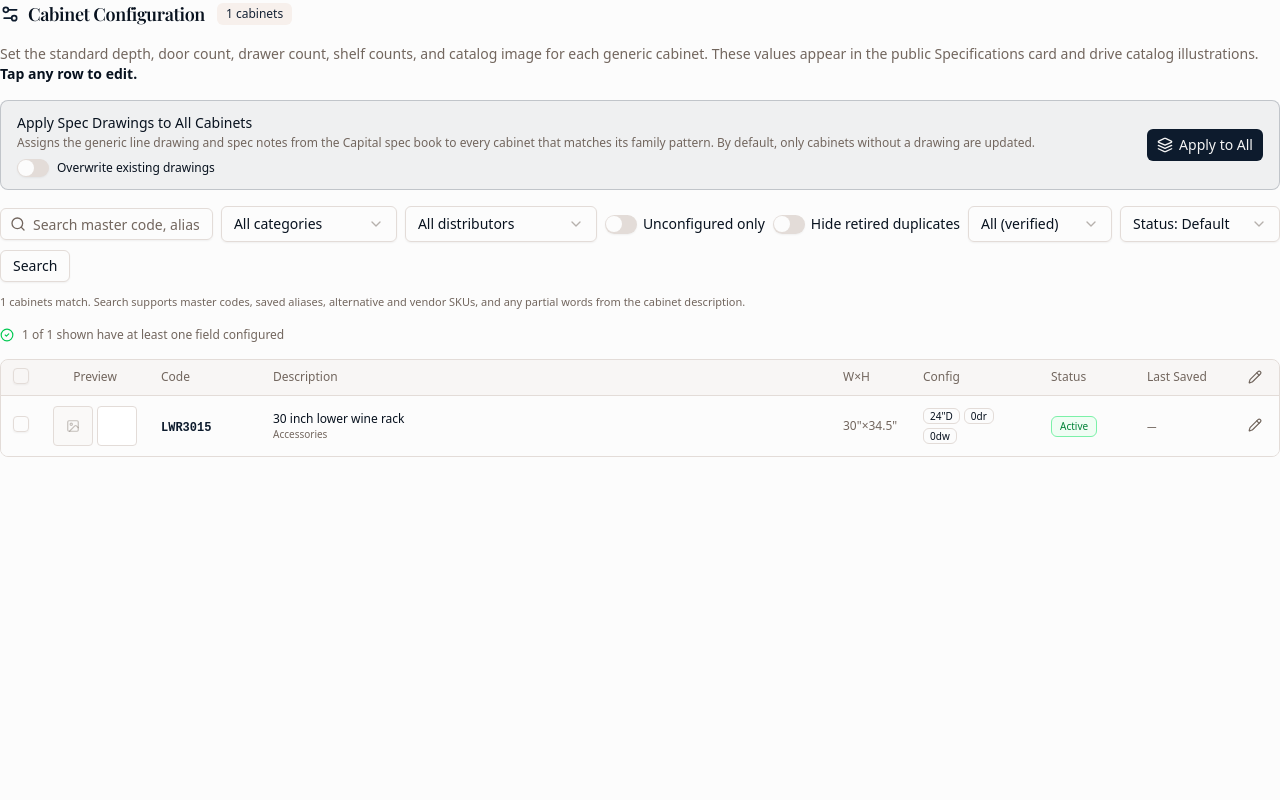
Test case: Cabinet Config edit flow › opens the editor from the pencil
This screenshot has width=1280, height=800.
Click the button named "Edit LWR3015": (1255, 425) [1244,414,1266,436]
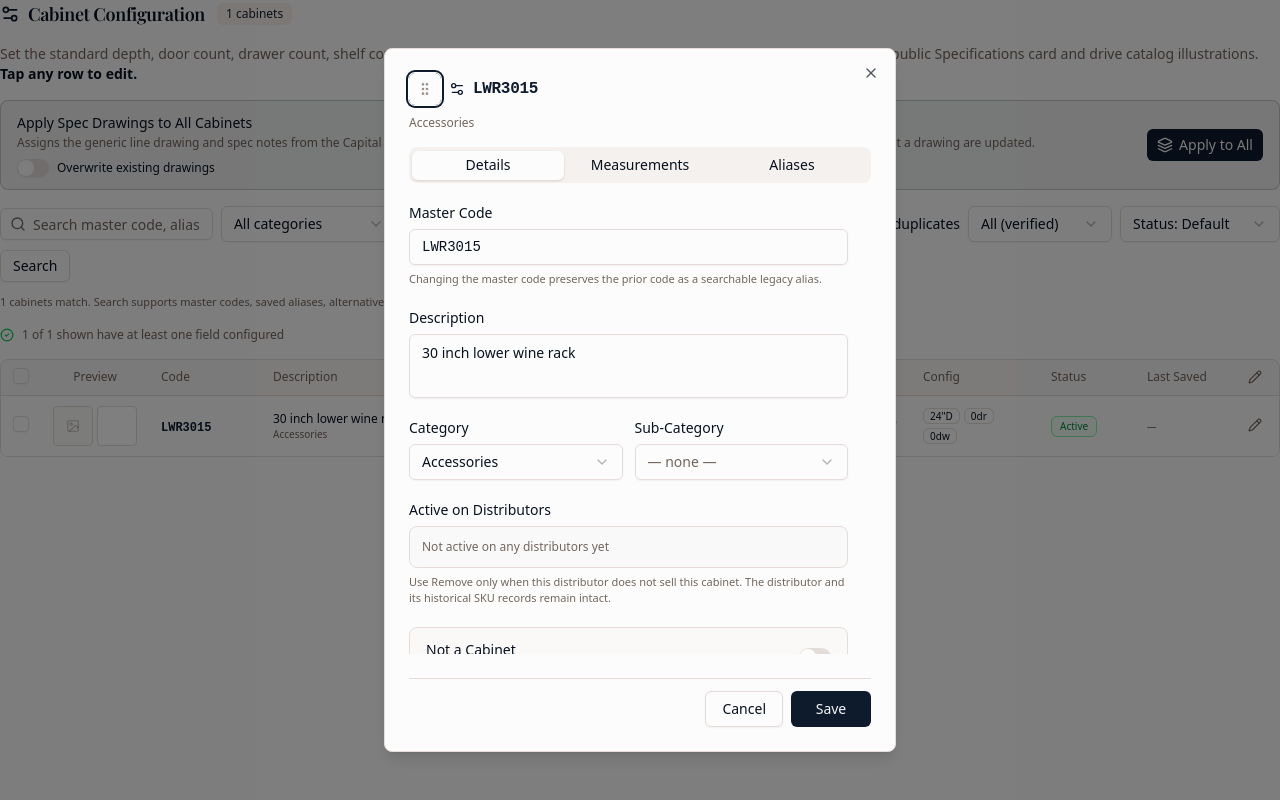
Result: the dialog "LWR3015" is shown at [384,48,896,752]
